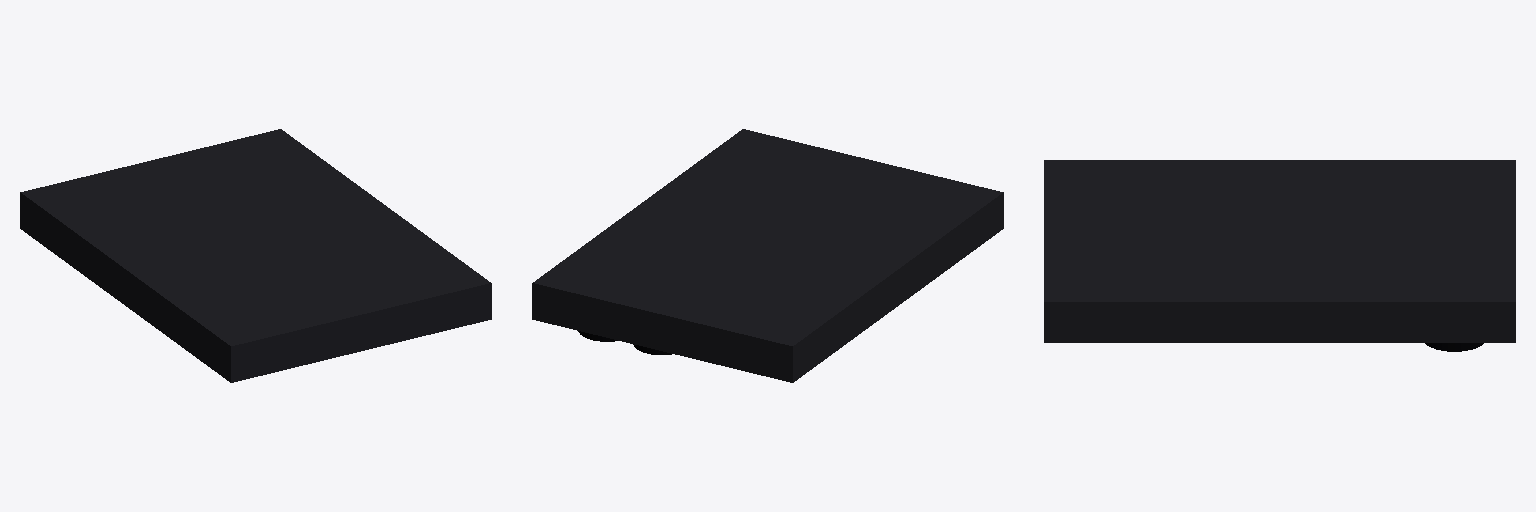
robot.urdf — iphone_duo:
<?xml version="1.0"?>
<!-- iPhone Duo: generated by imuninn from Apple's dimensional drawings (iphone-frames dataset). Frames: device = display centre on the front glass (x right, y top, z out of the screen); cam_*_optical = OpenCV axes. Geometry and mass are approximate. -->
<robot name="iphone_duo">
  <material name="iphone_body">
    <color rgba="0.15 0.15 0.17 1" />
  </material>
  <material name="iphone_lens">
    <color rgba="0.05 0.05 0.06 1" />
  </material>
  <link name="device">
    <visual name="body">
      <origin xyz="-0.000665 -5e-05 -0.00565" rpy="0 0 0" />
      <geometry>
        <box size="0.0841 0.1178 0.0113" />
      </geometry>
      <material name="iphone_body" />
    </visual>
    <collision name="body">
      <origin xyz="-0.000665 -5e-05 -0.00565" rpy="0 0 0" />
      <geometry>
        <box size="0.0841 0.1178 0.0113" />
      </geometry>
    </collision>
    <visual name="lens_ultra_wide">
      <origin xyz="0.026135 0.0436 -0.01416" rpy="0 0 0" />
      <geometry>
        <cylinder radius="0.0081" length="0.00572" />
      </geometry>
      <material name="iphone_lens" />
    </visual>
    <visual name="lens_main">
      <origin xyz="0.008405 0.0436 -0.01416" rpy="0 0 0" />
      <geometry>
        <cylinder radius="0.0081" length="0.00572" />
      </geometry>
      <material name="iphone_lens" />
    </visual>
    <inertial>
      <origin xyz="-0.000665 -5e-05 -0.00565" rpy="0 0 0" />
      <mass value="0.257" />
      <inertia ixx="0.00029993" ixy="0" ixz="0" iyy="0.000154211" iyz="0" izz="0.000448672" />
    </inertial>
  </link>
  <link name="magsafe" />
  <joint name="device_to_magsafe" type="fixed">
    <parent link="device" />
    <child link="magsafe" />
    <origin xyz="8.5e-05 -0.00246 -0.0113" rpy="3.14159265 0 3.14159265" />
  </joint>
  <link name="cam_ultra_wide_optical" />
  <joint name="device_to_cam_ultra_wide_optical" type="fixed">
    <parent link="device" />
    <child link="cam_ultra_wide_optical" />
    <origin xyz="0.026135 0.0436 -0.01702" rpy="3.14159265 0 -1.57079633" />
  </joint>
  <link name="cam_main_optical" />
  <joint name="device_to_cam_main_optical" type="fixed">
    <parent link="device" />
    <child link="cam_main_optical" />
    <origin xyz="0.008405 0.0436 -0.01702" rpy="3.14159265 0 -1.57079633" />
  </joint>
  <link name="cam_front_optical" />
  <joint name="device_to_cam_front_optical" type="fixed">
    <parent link="device" />
    <child link="cam_front_optical" />
    <origin xyz="0.030675 0.04823 0" rpy="0 0 -1.57079633" />
  </joint>
  <link name="imu" />
  <joint name="device_to_imu" type="fixed">
    <parent link="device" />
    <child link="imu" />
    <origin xyz="0 0 0" rpy="0 0 0" />
  </joint>
</robot>

--- Render facts (derived) ---
Views: 3 orthographic renders of the robot side by side, from view 1: azimuth 30°, elevation 25°; view 2: azimuth 150°, elevation 25°; view 3: azimuth 270°, elevation 25°.
Model iphone_duo with 6 links and 5 joints (5 fixed), rooted at device, posed all joints at 0.
Visible links, largest first — view 1: device; view 2: device; view 3: device.
Link boxes in pixels (box(x1,y1,x2,y2)): device: box(20, 129, 491, 382); device: box(532, 129, 1003, 382); device: box(1044, 160, 1515, 351).
Size in the robot's own frame: 0.0841 by 0.1178 by 0.017 metres.
Geometry: primitives only (box / cylinder / sphere), no mesh files.
